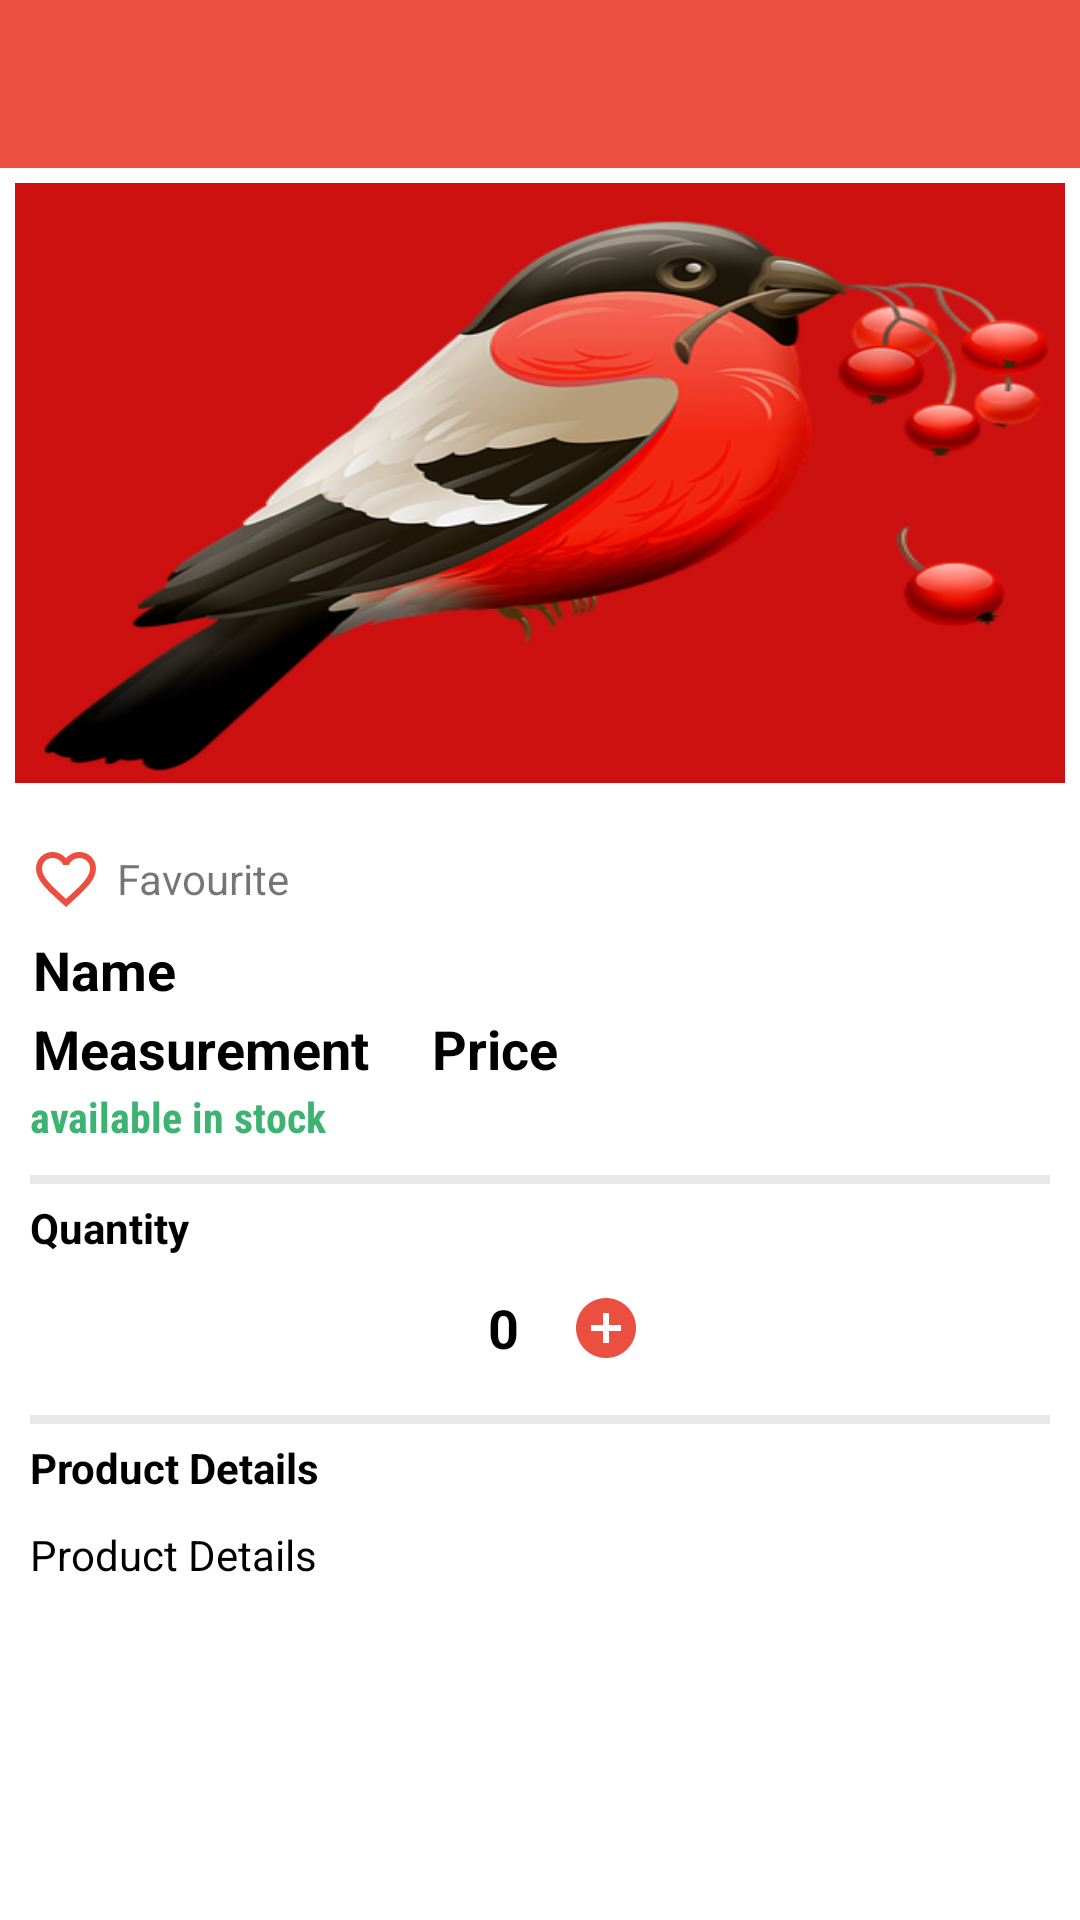

Where to tap for icons on this 1080w x 1920h app screen, as (x=x, y=y):
add: (x=606, y=1328)
not favorite product: (x=66, y=879)
